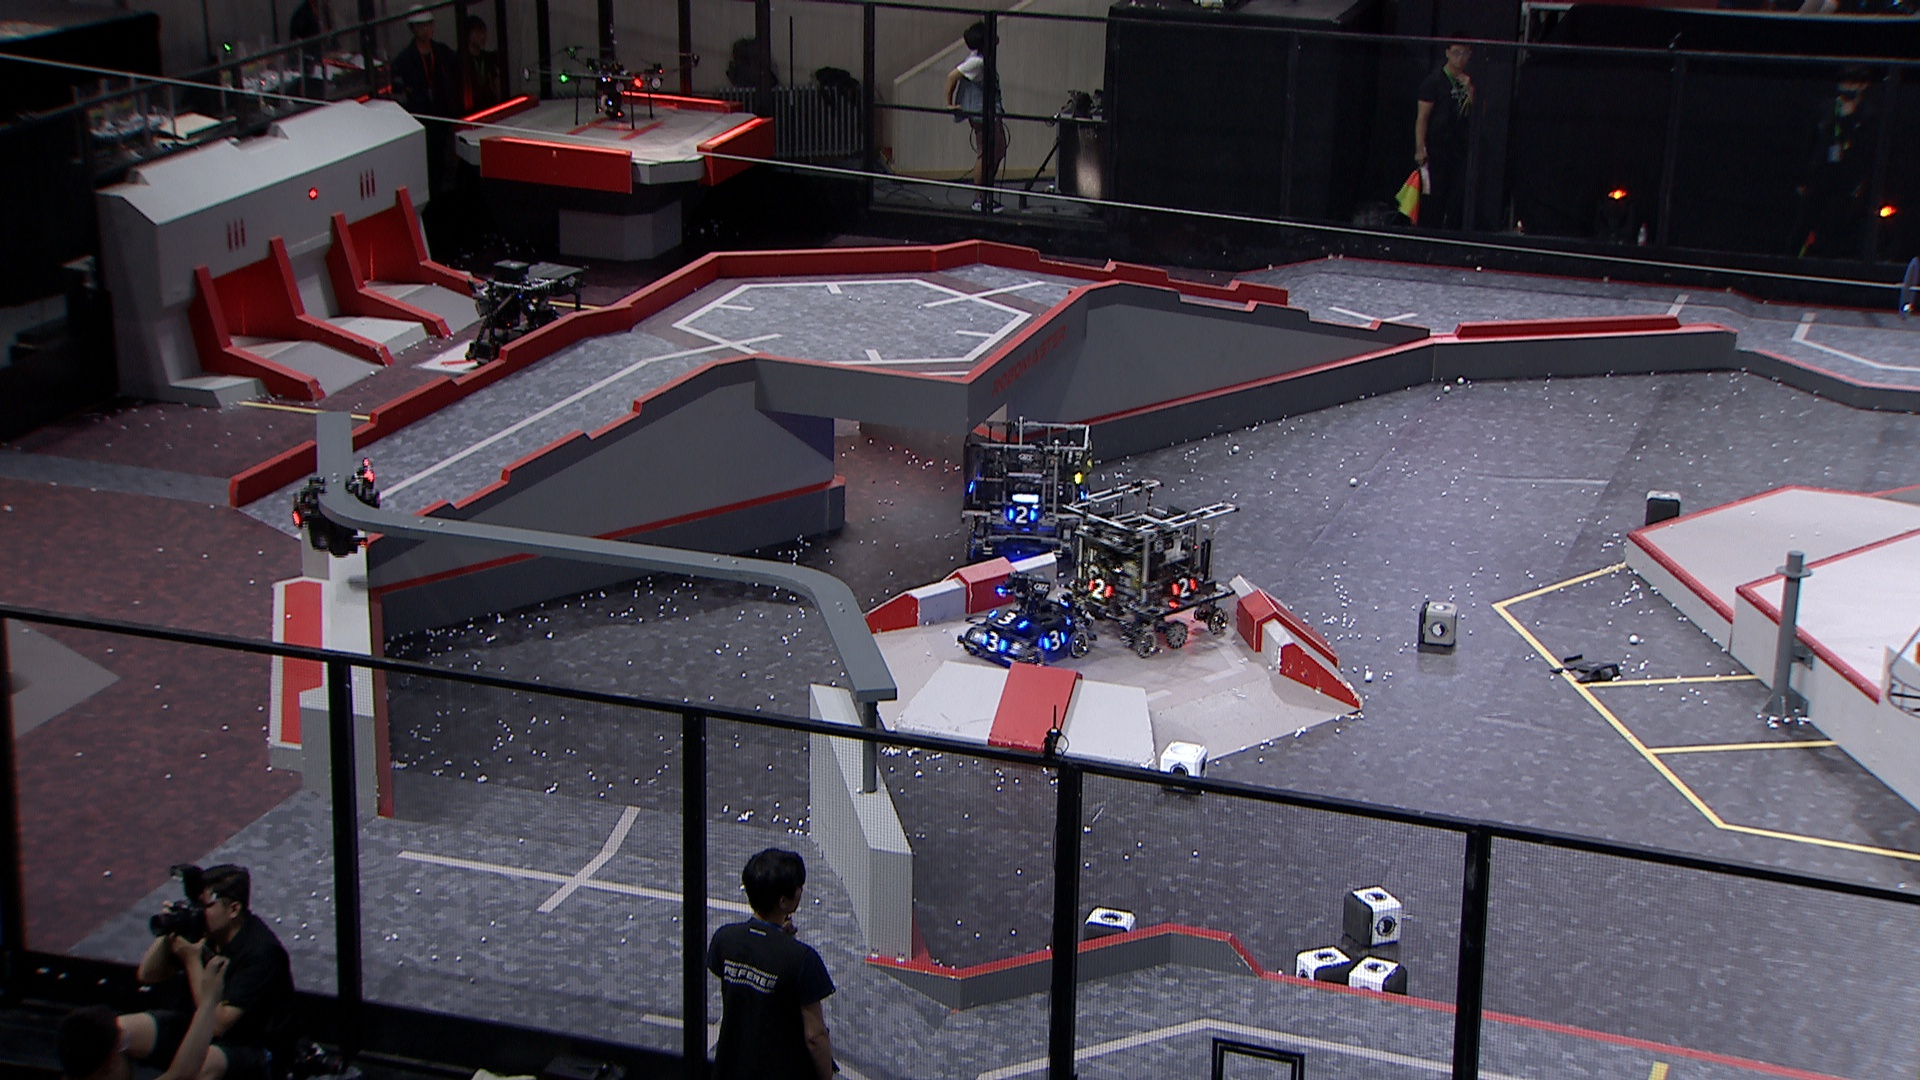armor: (986, 607, 1030, 628), (1004, 504, 1039, 527), (1043, 626, 1068, 654), (1087, 576, 1112, 603), (982, 629, 1007, 655), (1171, 576, 1197, 599)
car: (1058, 479, 1236, 659), (957, 417, 1092, 568), (956, 568, 1093, 675), (467, 262, 589, 376)
watcher: (289, 458, 381, 560)
